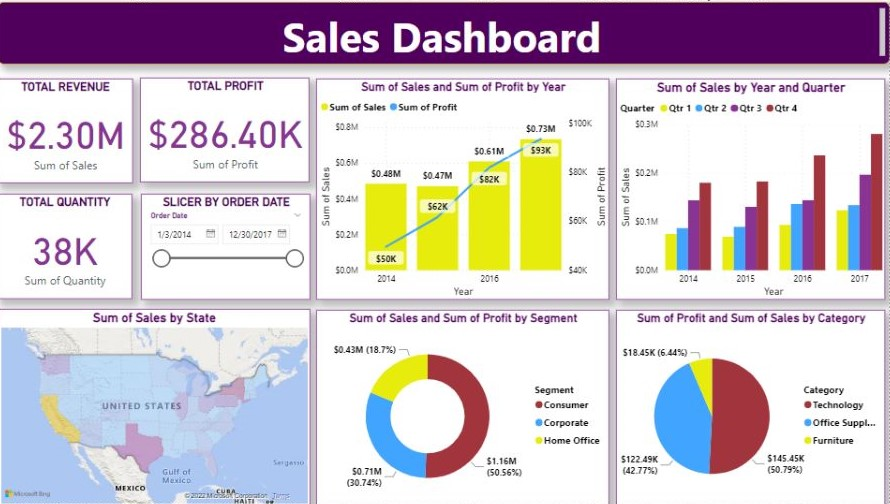

The dashboard page shown, as its layout file describes it:
{"tool":"powerbi","page":{"name":"overall sales","canvas":[1280,720],"ordinal":0},"visuals":[{"type":"textbox","box":[10.1,0,1269.9,89],"z":0},{"type":"card","title":"TOTAL REVENUE","fields":{"Values":["Sum(Orders.Sales)"]},"box":[9.6,108.7,194.1,148.6],"z":1},{"type":"card","title":"TOTAL QUANTITY","fields":{"Values":["Sum(Orders.Quantity)"]},"box":[9.6,273.9,192.7,150],"z":2},{"type":"card","title":"TOTAL PROFIT","fields":{"Values":["Sum(Orders.Profit)"]},"box":[213.3,108,241.3,149.3],"z":3},{"type":"slicer","title":"SLICER BY ORDER DATE","fields":{"Values":["Orders.Order Date"]},"box":[214.7,273.3,241.3,150.7],"z":4},{"type":"lineClusteredColumnComboChart","fields":{"Y":["Sum(Orders.Sales)"],"Y2":["Sum(Orders.Profit)"],"Category":["Orders.Order Date.Variation.Date Hierarchy.Year","Orders.Order Date.Variation.Date Hierarchy.Quarter","Orders.Order Date.Variation.Date Hierarchy.Month","Orders.Order Date.Variation.Date Hierarchy.Day"]},"box":[464,109.3,417.3,314.7],"z":5},{"type":"clusteredColumnChart","fields":{"Series":["Orders.Quater"],"Category":["Orders.Year"],"Y":["Sum(Orders.Sales)"]},"box":[890.7,109.3,382.7,314.7],"z":6},{"type":"filledMap","fields":{"Category":["Orders.State"]},"box":[11,437.7,444.6,282.2],"z":7},{"type":"donutChart","fields":{"Category":["Orders.Segment"],"Y":["Sum(Orders.Sales)"]},"box":[464,438,417,282],"z":8},{"type":"pieChart","fields":{"Category":["Orders.Category"],"Y":["Sum(Orders.Profit)"]},"box":[891,438,383,282],"z":9}]}

Visuals, with their boxes in screenshot pixels (x1, y1, x2, y2), scaled from the page's 1280x720 canvas onto the 890x504 screenshot:
textbox: [7,0,889,62]
"TOTAL REVENUE" card: [7,76,142,180]
"TOTAL QUANTITY" card: [7,192,141,297]
"TOTAL PROFIT" card: [148,76,316,180]
"SLICER BY ORDER DATE" slicer: [149,191,317,297]
lineClusteredColumnComboChart - Sum(Orders.Sales) x Sum(Orders.Profit): [323,77,613,297]
clusteredColumnChart - Orders.Quater x Orders.Year: [619,77,885,297]
filledMap - Orders.State: [8,306,317,503]
donutChart - Orders.Segment x Sum(Orders.Sales): [323,307,613,503]
pieChart - Orders.Category x Sum(Orders.Profit): [620,307,886,503]
